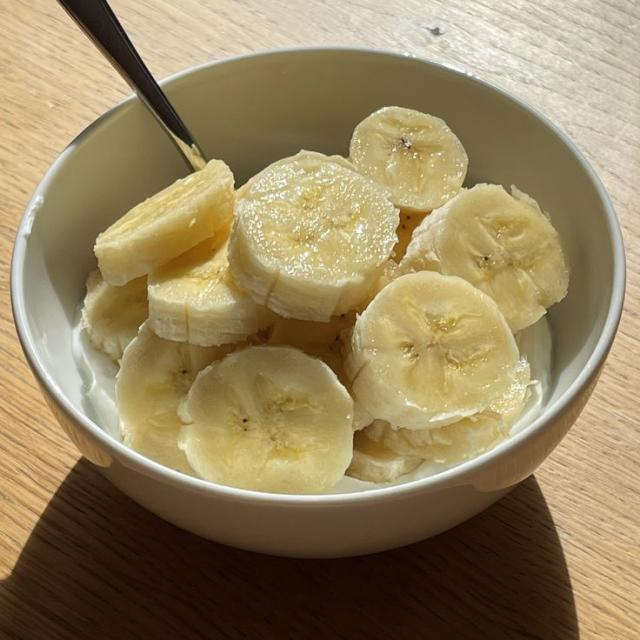banana slice: (229, 153, 399, 321), (346, 272, 519, 428), (180, 346, 353, 493), (400, 185, 568, 332), (116, 323, 237, 474), (359, 359, 530, 464), (94, 160, 233, 285), (148, 234, 275, 346), (349, 107, 467, 212), (267, 312, 355, 383), (82, 270, 147, 360), (347, 432, 423, 483), (268, 150, 355, 170), (394, 211, 424, 262)
